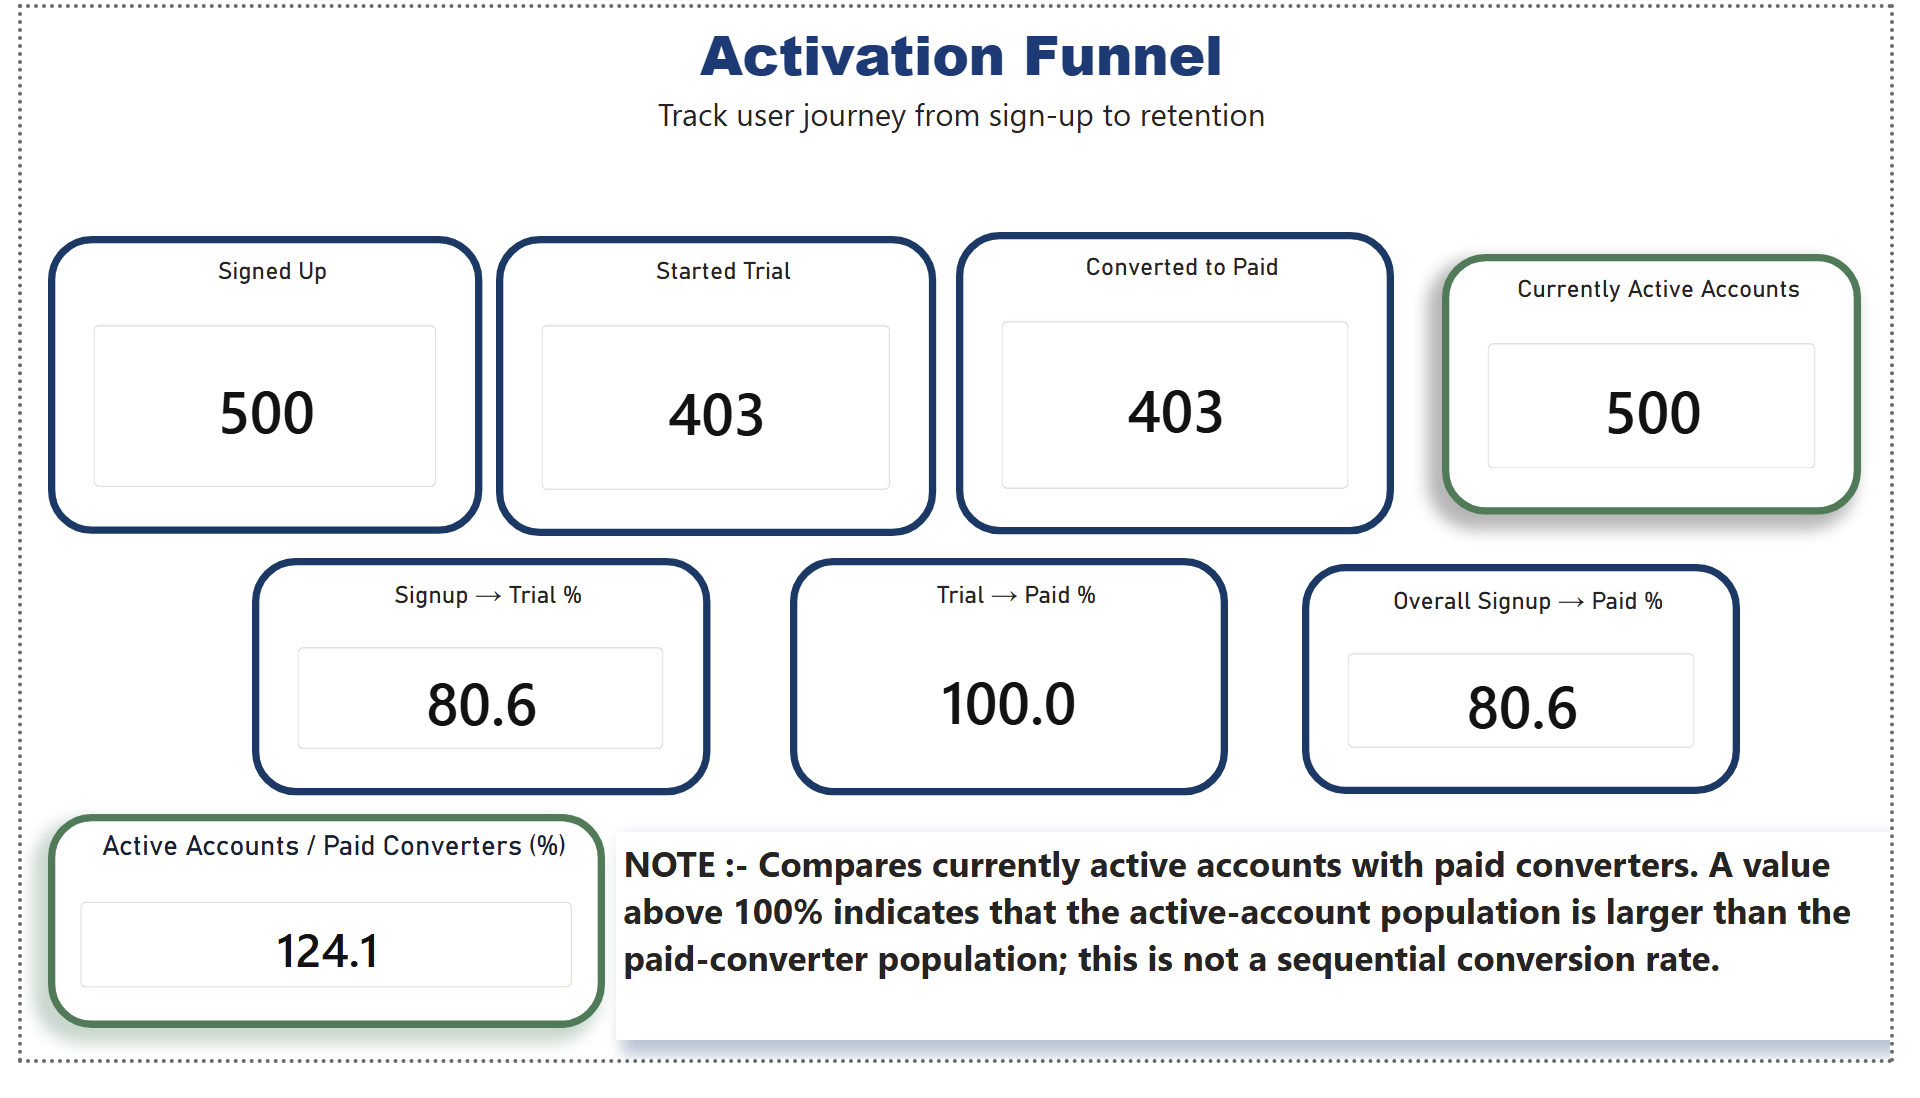

Layout of this report page (visuals, bound fields, positions):
{"tool":"powerbi","page":{"name":"Activation Funnel","canvas":[1280,720],"ordinal":0},"visuals":[{"type":"textbox","box":[230,0,826.7,108.3],"z":0},{"type":"cardVisual","title":"Signed Up","fields":{"Data":["Sum(funnel_results.signed_up)"]},"box":[17.5,156.2,297.5,203.8],"z":1000},{"type":"cardVisual","title":"Started Trial","fields":{"Data":["Sum(funnel_results.started_trial)"]},"box":[324.3,155.7,301.4,205.7],"z":2000},{"type":"cardVisual","title":"Converted to Paid","fields":{"Data":["Sum(funnel_results.converted_to_paid)"]},"box":[640,152.9,300,207.1],"z":3000},{"type":"cardVisual","title":"Currently Active Accounts","fields":{"Data":["Sum(funnel_results.retained_active)"]},"box":[972.9,168.6,287.1,178.6],"z":4000},{"type":"cardVisual","title":"Signup → Trial %","fields":{"Data":["Sum(funnel_results.signup_to_trial_pct)"]},"box":[157.5,376.2,313.8,162.5],"z":5000},{"type":"cardVisual","title":"Trial → Paid %","fields":{"Data":["Sum(funnel_results.trial_to_paid_pct)"]},"box":[526.2,376.2,300,162.5],"z":6000},{"type":"cardVisual","title":"Overall Signup → Paid %","fields":{"Data":["Sum(funnel_results.overall_signup_to_paid_pct)"]},"box":[876.2,381.2,300,157.5],"z":7000},{"type":"cardVisual","title":"Active Accounts / Paid Converters (%)","fields":{"Data":["Sum(funnel_results.paid_to_retained_pct)"]},"box":[17.5,552.5,381.2,146.2],"z":8000},{"type":"textbox","box":[407.5,565,875,142.5],"z":9000}]}

Visuals, with their boxes in screenshot pixels (x1, y1, x2, y2), scaled from the page's 1280x720 canvas onto the 1920x1098 screenshot:
textbox: locate(345, 0, 1585, 165)
"Signed Up" cardVisual: locate(26, 238, 472, 549)
"Started Trial" cardVisual: locate(486, 237, 939, 551)
"Converted to Paid" cardVisual: locate(960, 233, 1410, 549)
"Currently Active Accounts" cardVisual: locate(1459, 257, 1890, 529)
"Signup → Trial %" cardVisual: locate(236, 574, 707, 822)
"Trial → Paid %" cardVisual: locate(789, 574, 1239, 822)
"Overall Signup → Paid %" cardVisual: locate(1314, 581, 1764, 822)
"Active Accounts / Paid Converters (%)" cardVisual: locate(26, 843, 598, 1066)
textbox: locate(611, 862, 1919, 1079)
